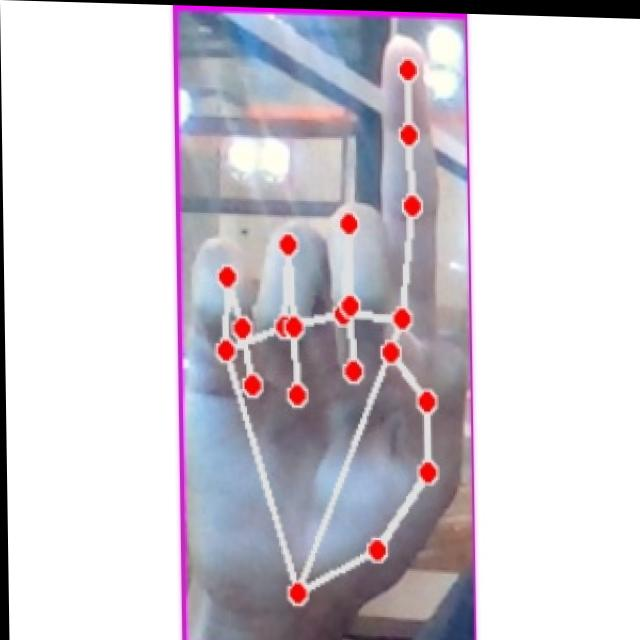D: (183, 22, 466, 623)
